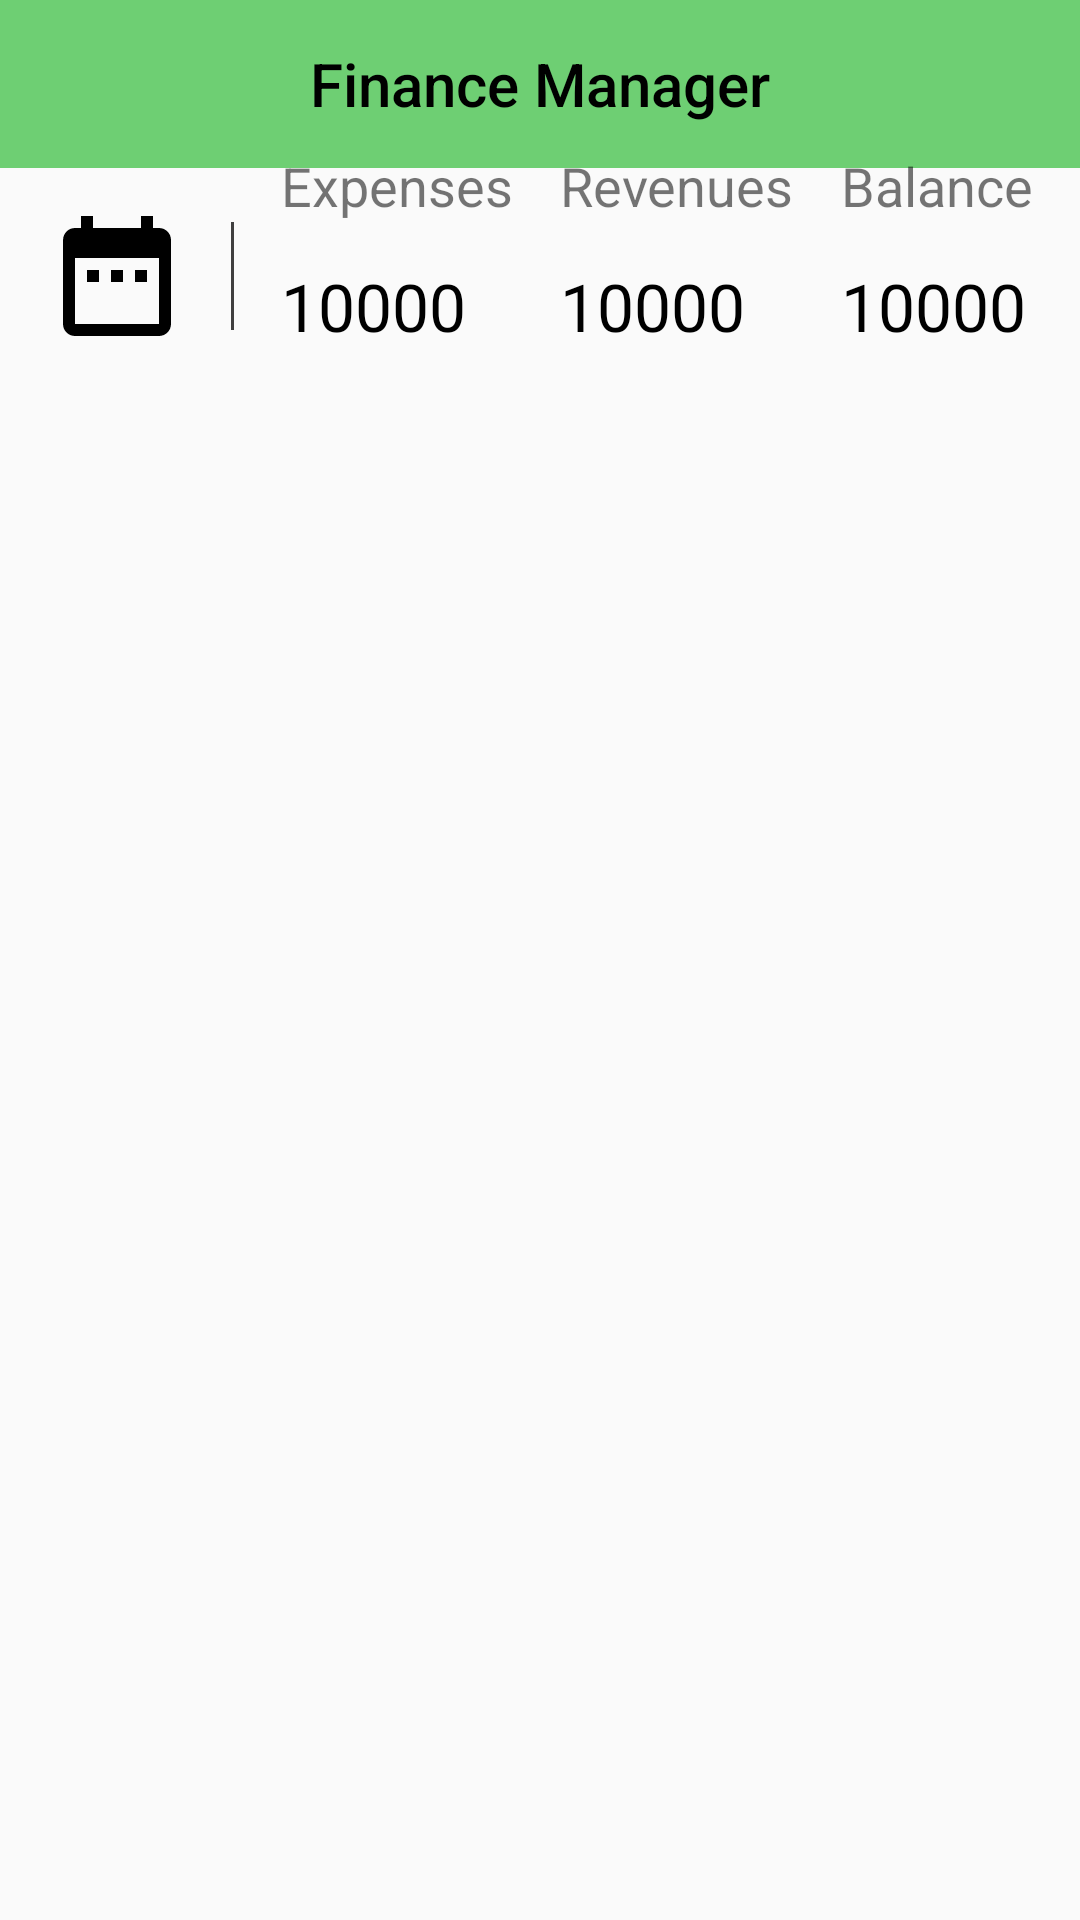

Icon bounding boxes for this 1080 x 1920 phone screenshot, format detection(x1, y1, x2, y2):
date range: detection(63, 216, 171, 336)
